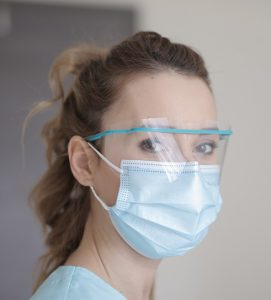with_mask: (65, 51, 236, 264)
